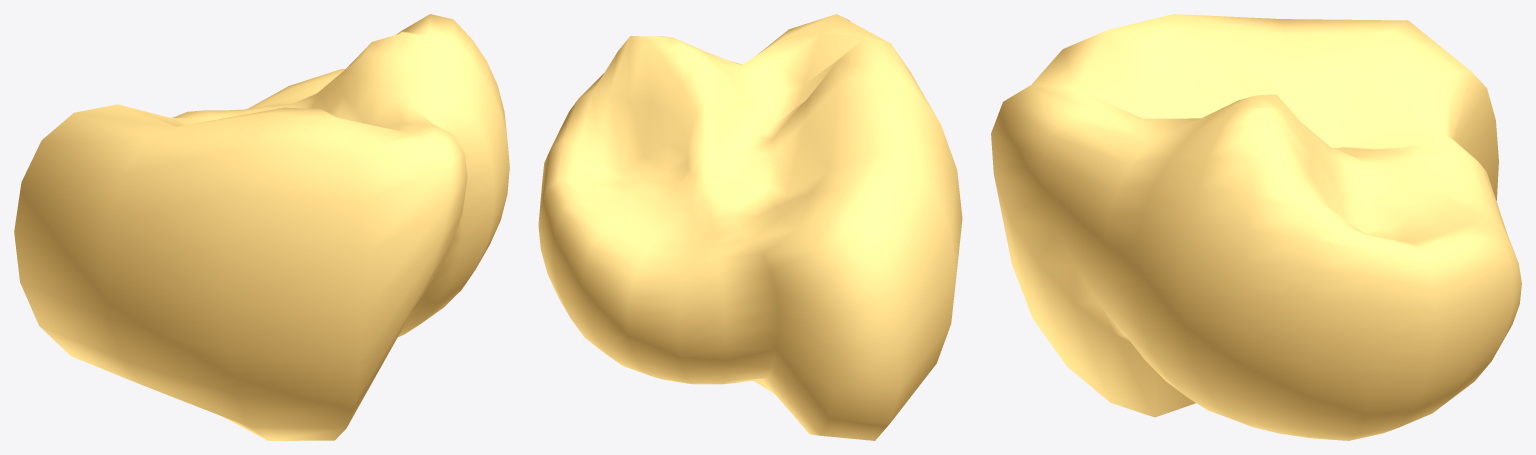
The model's file is pop corn.fbx.
3 views of the same model, side by side, from view 1: azimuth 30°, elevation 25°; view 2: azimuth 150°, elevation 25°; view 3: azimuth 270°, elevation 25° (orthographic). The views are drawn at different scales.
Visible parts, largest first — view 1: pSphere1; view 2: pSphere1; view 3: pSphere1.
Boxes of the visible parts, <box> form: pSphere1: <box>14,14,509,440</box>; pSphere1: <box>538,14,962,440</box>; pSphere1: <box>991,14,1521,440</box>.
Bounding box in the file's own units: 2.58 × 2.04 × 2.46.
